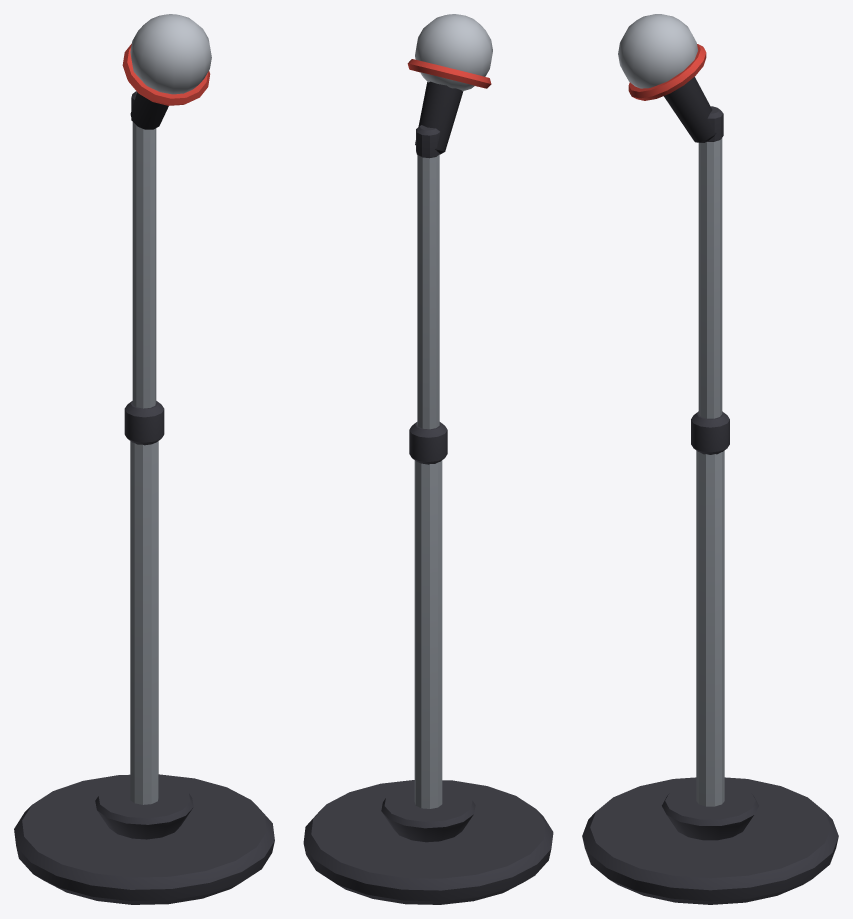
File: microfone.glb
The picture shows the model from 3 angles, left to right: view 1: azimuth 30°, elevation 25°; view 2: azimuth 150°, elevation 25°; view 3: azimuth 270°, elevation 25°; orthographic projection. The views are drawn at different scales.
Visible parts, largest first — view 1: pedestal, microfone; view 2: pedestal, microfone; view 3: pedestal, microfone.
Boxes of the visible parts, box(x1,y1,x2,y2) form: pedestal: box(14, 91, 274, 904); microfone: box(122, 14, 211, 129); pedestal: box(303, 125, 553, 904); microfone: box(407, 14, 492, 154); pedestal: box(582, 106, 838, 904); microfone: box(618, 14, 716, 142).
Size of the model in its own units: 0.3941 by 1.42 by 0.3941.
